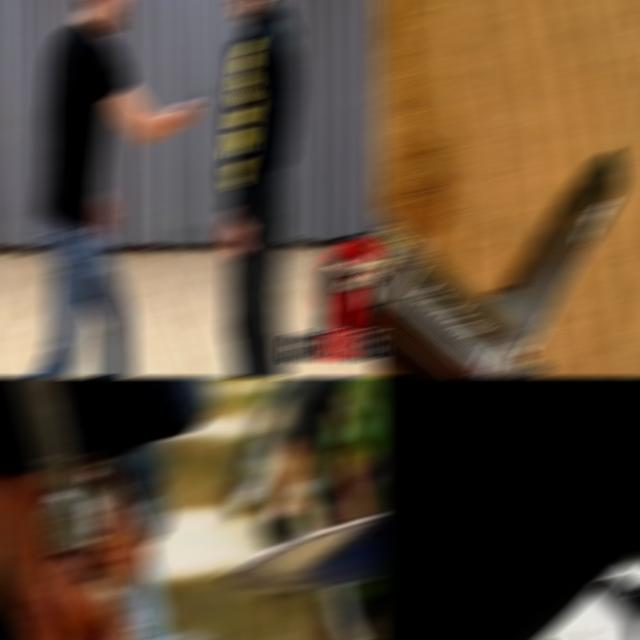Knife: (13, 378, 88, 552), (223, 515, 382, 587)
Knife_Handle: (372, 520, 640, 639), (170, 85, 218, 129)
